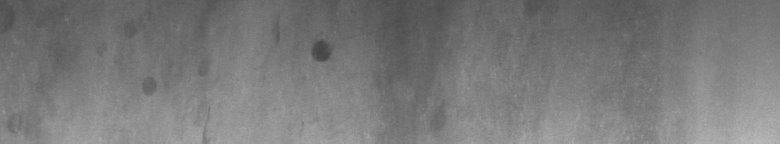fi: (276, 23, 336, 68)
